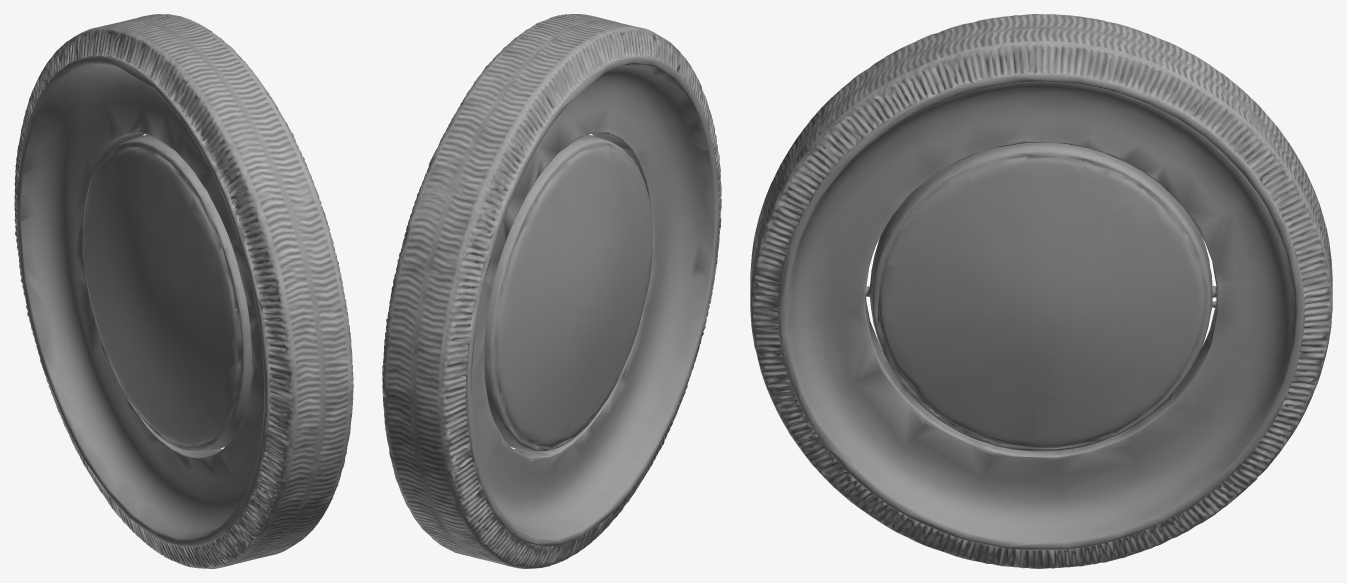
The model's file is btn-transform.glb.
The picture shows the model from 3 angles, left to right: view 1: azimuth 30°, elevation 25°; view 2: azimuth 150°, elevation 25°; view 3: azimuth 270°, elevation 25°; orthographic projection. The views are drawn at different scales.
Visible parts, largest first — view 1: tripo_node_1a2d0f6b-c73a-4792-837e-7704c0a3b9db; view 2: tripo_node_1a2d0f6b-c73a-4792-837e-7704c0a3b9db; view 3: tripo_node_1a2d0f6b-c73a-4792-837e-7704c0a3b9db.
Part boxes in pixels (<box>): tripo_node_1a2d0f6b-c73a-4792-837e-7704c0a3b9db: <box>14,14,353,568</box>; tripo_node_1a2d0f6b-c73a-4792-837e-7704c0a3b9db: <box>382,14,721,568</box>; tripo_node_1a2d0f6b-c73a-4792-837e-7704c0a3b9db: <box>750,14,1332,568</box>.
Size of the model in its own units: 0.1791 by 0.9999 by 1.
Materials: 1 (1 with a texture image).
